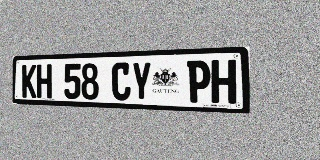5: (64, 63, 81, 99)
8: (81, 63, 99, 100)
C: (112, 62, 131, 101)
H: (211, 59, 236, 104), (37, 64, 52, 98)
K: (22, 65, 36, 98)
P: (187, 60, 210, 103)
Y: (131, 62, 151, 101)
